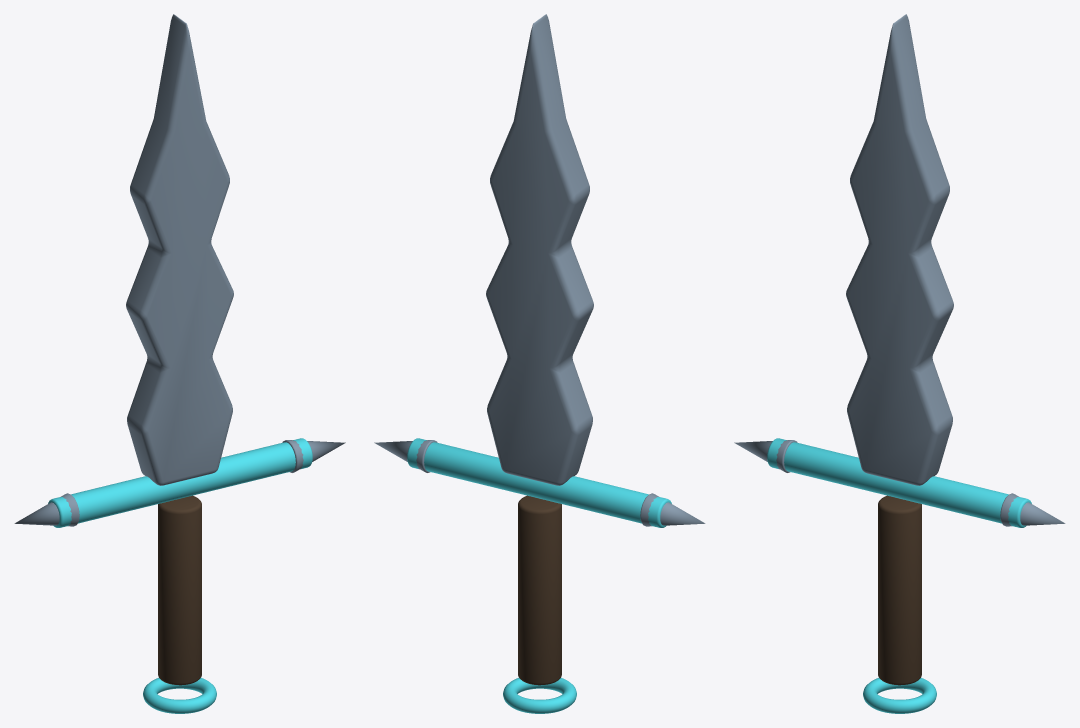
File: sword_v6.glb
The picture shows the model from 3 angles, left to right: view 1: azimuth 30°, elevation 25°; view 2: azimuth 150°, elevation 25°; view 3: azimuth 330°, elevation 25°; orthographic projection.
Visible parts, largest first — view 1: FLAMBERGE_BLADE_PRIMARY, GRIP_SECONDARY, FLAMBERGE_QUILLON_ACCENT, POMMEL_ACCENT, FLAMBERGE_GUARD_TIP_PRIMARY, FLAMBERGE_GUARD_TIP_PRIMARY.001; view 2: FLAMBERGE_BLADE_PRIMARY, GRIP_SECONDARY, FLAMBERGE_QUILLON_ACCENT, POMMEL_ACCENT, FLAMBERGE_GUARD_TIP_PRIMARY, FLAMBERGE_GUARD_TIP_PRIMARY.001; view 3: FLAMBERGE_BLADE_PRIMARY, GRIP_SECONDARY, FLAMBERGE_QUILLON_ACCENT, POMMEL_ACCENT, FLAMBERGE_GUARD_TIP_PRIMARY.001, FLAMBERGE_GUARD_TIP_PRIMARY.
Boxes of the visible parts, left/top/right/bottom form: FLAMBERGE_BLADE_PRIMARY: left=126, top=14, right=233, bottom=485; GRIP_SECONDARY: left=158, top=495, right=201, bottom=685; FLAMBERGE_QUILLON_ACCENT: left=48, top=438, right=312, bottom=527; POMMEL_ACCENT: left=143, top=678, right=216, bottom=713; FLAMBERGE_GUARD_TIP_PRIMARY: left=14, top=493, right=79, bottom=526; FLAMBERGE_GUARD_TIP_PRIMARY.001: left=282, top=440, right=345, bottom=472; FLAMBERGE_BLADE_PRIMARY: left=486, top=14, right=593, bottom=485; GRIP_SECONDARY: left=518, top=495, right=561, bottom=685; FLAMBERGE_QUILLON_ACCENT: left=407, top=438, right=671, bottom=527; POMMEL_ACCENT: left=503, top=678, right=576, bottom=713; FLAMBERGE_GUARD_TIP_PRIMARY: left=640, top=493, right=705, bottom=526; FLAMBERGE_GUARD_TIP_PRIMARY.001: left=374, top=440, right=437, bottom=472; FLAMBERGE_BLADE_PRIMARY: left=846, top=14, right=953, bottom=485; GRIP_SECONDARY: left=878, top=495, right=921, bottom=685; FLAMBERGE_QUILLON_ACCENT: left=767, top=438, right=1031, bottom=527; POMMEL_ACCENT: left=863, top=678, right=936, bottom=713; FLAMBERGE_GUARD_TIP_PRIMARY.001: left=1000, top=493, right=1065, bottom=526; FLAMBERGE_GUARD_TIP_PRIMARY: left=734, top=440, right=797, bottom=472.
Bounding box in the file's own units: 2.42 × 4.75 × 0.468.
